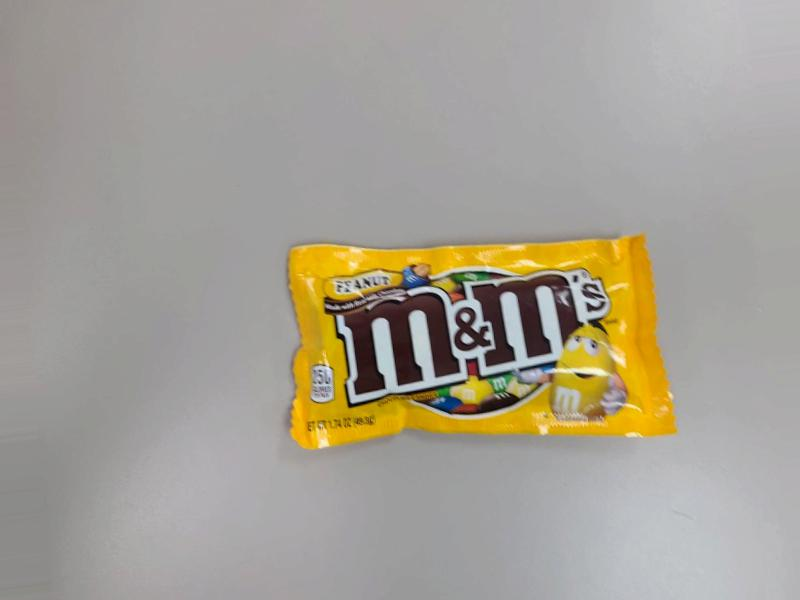m&m: (288, 213, 713, 456)
